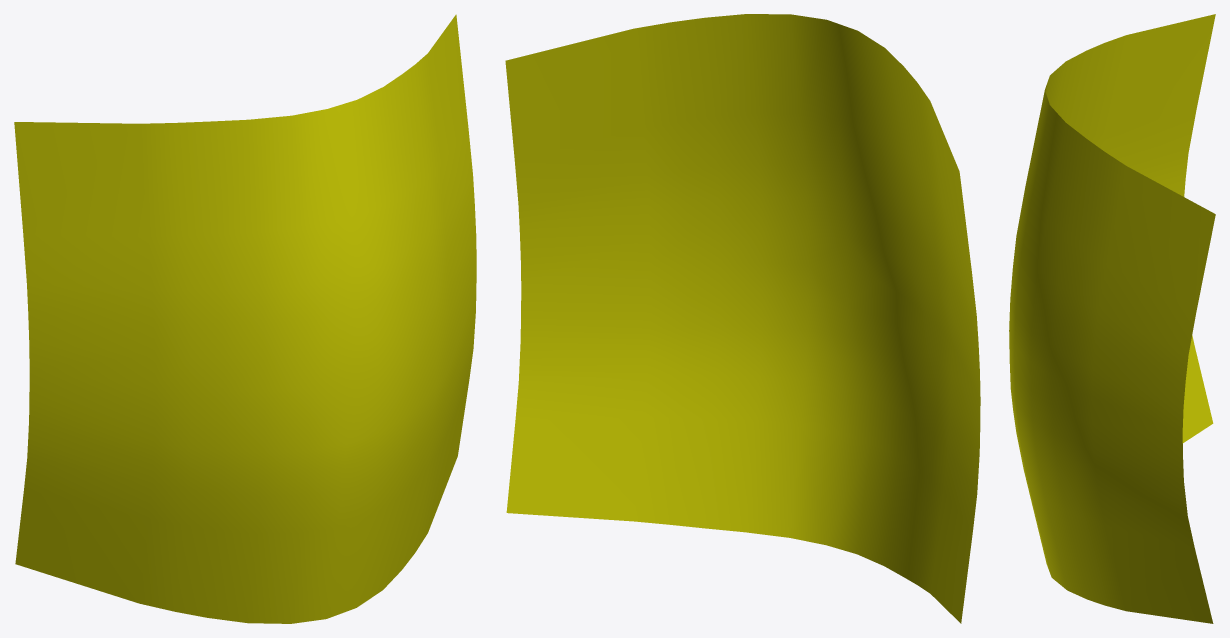
Rendered from Mask_4.glb.
3 renders of one model, left to right at view 1: azimuth 30°, elevation 25°; view 2: azimuth 150°, elevation 25°; view 3: azimuth 270°, elevation 25°, orthographic. The views are drawn at different scales.
Bounding box in the file's own units: 91.85 × 100 × 39.62.
